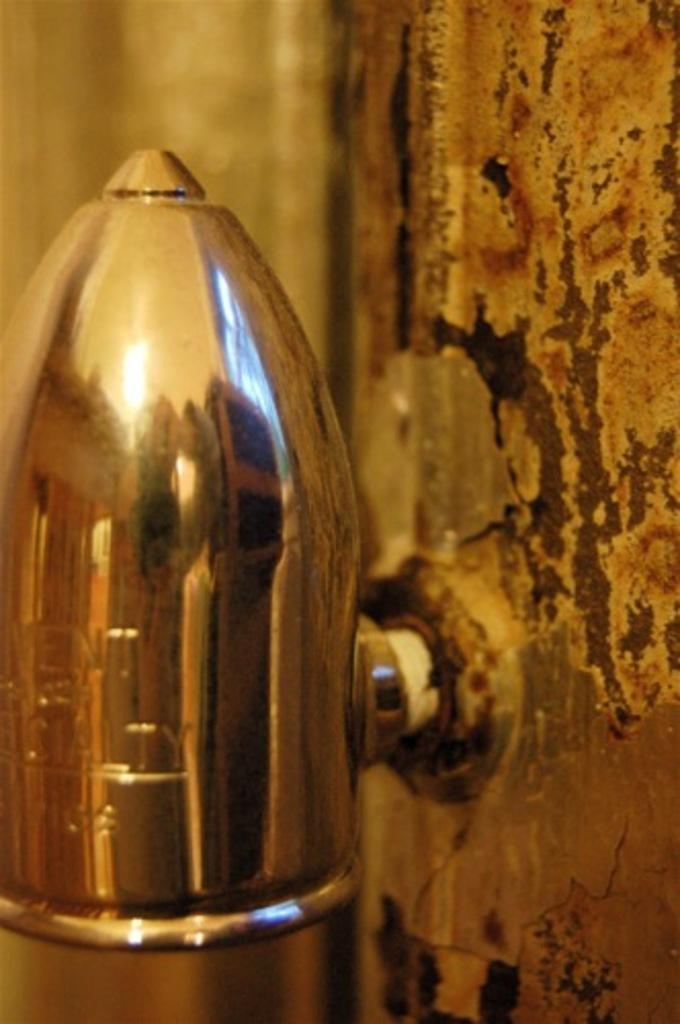handle: (25, 162, 373, 977)
